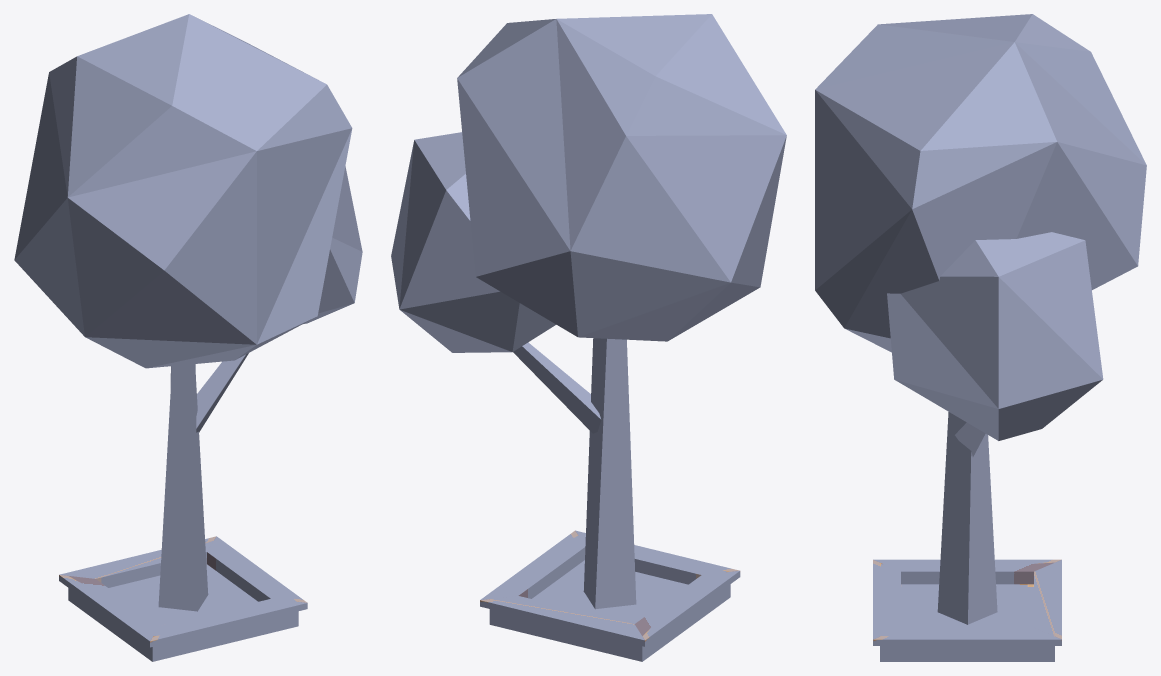
File: tree_02.FBX
3 renders of one model, left to right at view 1: azimuth 30°, elevation 25°; view 2: azimuth 150°, elevation 25°; view 3: azimuth 270°, elevation 25°, orthographic. The views are drawn at different scales.
Visible parts, largest first — view 1: tree_02; view 2: tree_02; view 3: tree_02.
Boxes of the visible parts, x1,y1,x2,y2 form: tree_02: [14, 14, 362, 661]; tree_02: [391, 14, 786, 661]; tree_02: [815, 14, 1146, 661].
Bounding box in the file's own units: 230 × 377 × 190.
